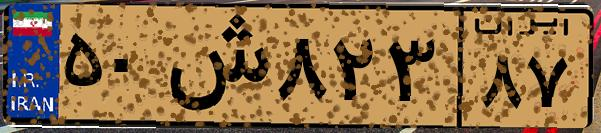0: (110, 28, 158, 98)
2: (330, 28, 385, 110)
3: (385, 28, 445, 110)
5: (57, 26, 110, 100)
7: (525, 38, 570, 115)
8: (270, 28, 330, 110), (475, 38, 525, 113)
ش: (158, 12, 270, 120)
